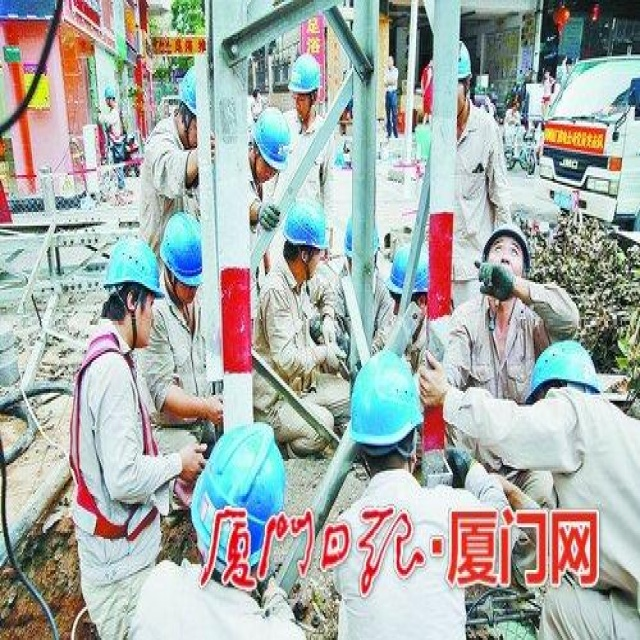Helmet: (186, 420, 286, 580), (345, 343, 428, 491), (518, 336, 614, 422), (100, 234, 167, 357), (279, 197, 336, 299), (158, 206, 207, 312), (249, 102, 293, 199), (286, 48, 328, 126), (384, 238, 432, 303)
